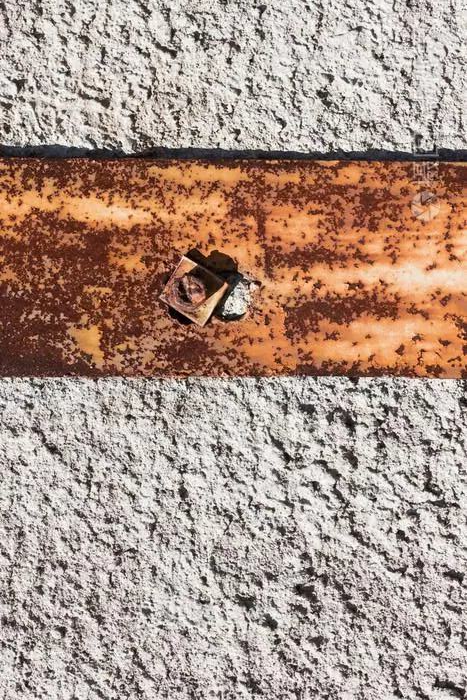Corrosion: (1, 155, 467, 380)
